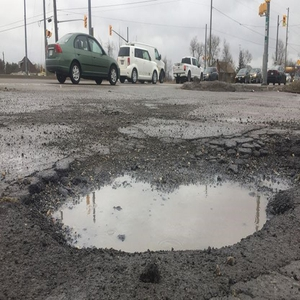pothole: (36, 153, 297, 254)
